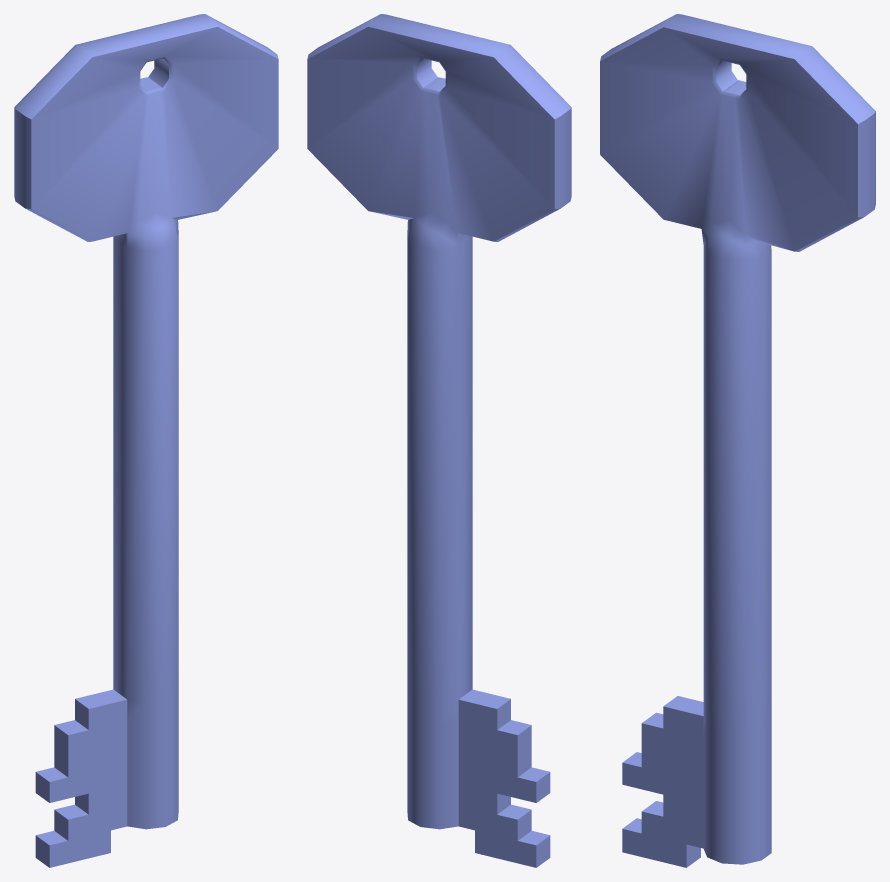
The model's file is Keys_39.FBX.
3 views of the same model, side by side, from view 1: azimuth 30°, elevation 25°; view 2: azimuth 150°, elevation 25°; view 3: azimuth 330°, elevation 25° (orthographic). The views are drawn at different scales.
Parts seen in each view (by area): view 1: Keys_39; view 2: Keys_39; view 3: Keys_39.
Part boxes in pixels (x1,y1,x2,y2): Keys_39: [14, 14, 278, 867]; Keys_39: [307, 14, 571, 867]; Keys_39: [600, 14, 875, 867].
Size of the model in its own units: 1.1 by 3.36 by 0.2585.
